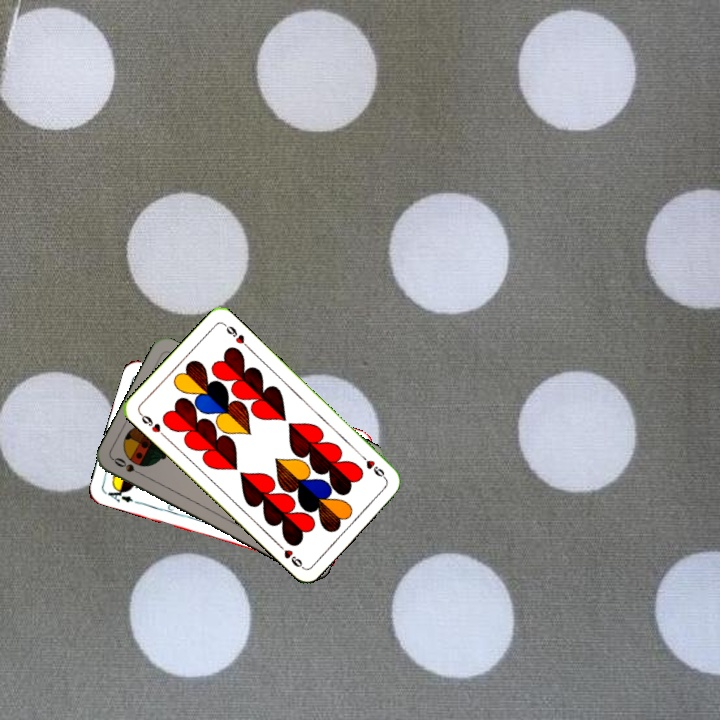EA: (101, 483, 136, 505)
H9: (356, 450, 389, 482), (135, 409, 169, 440)
SO: (110, 453, 147, 479)
